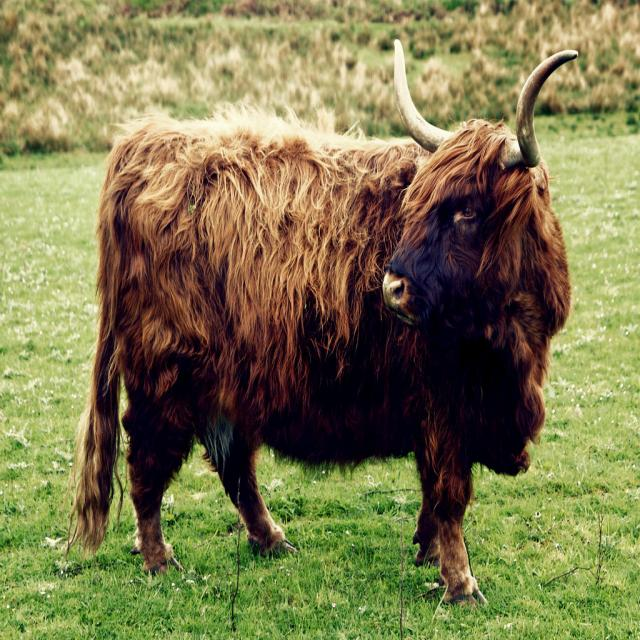Cattle: (64, 39, 580, 616)
